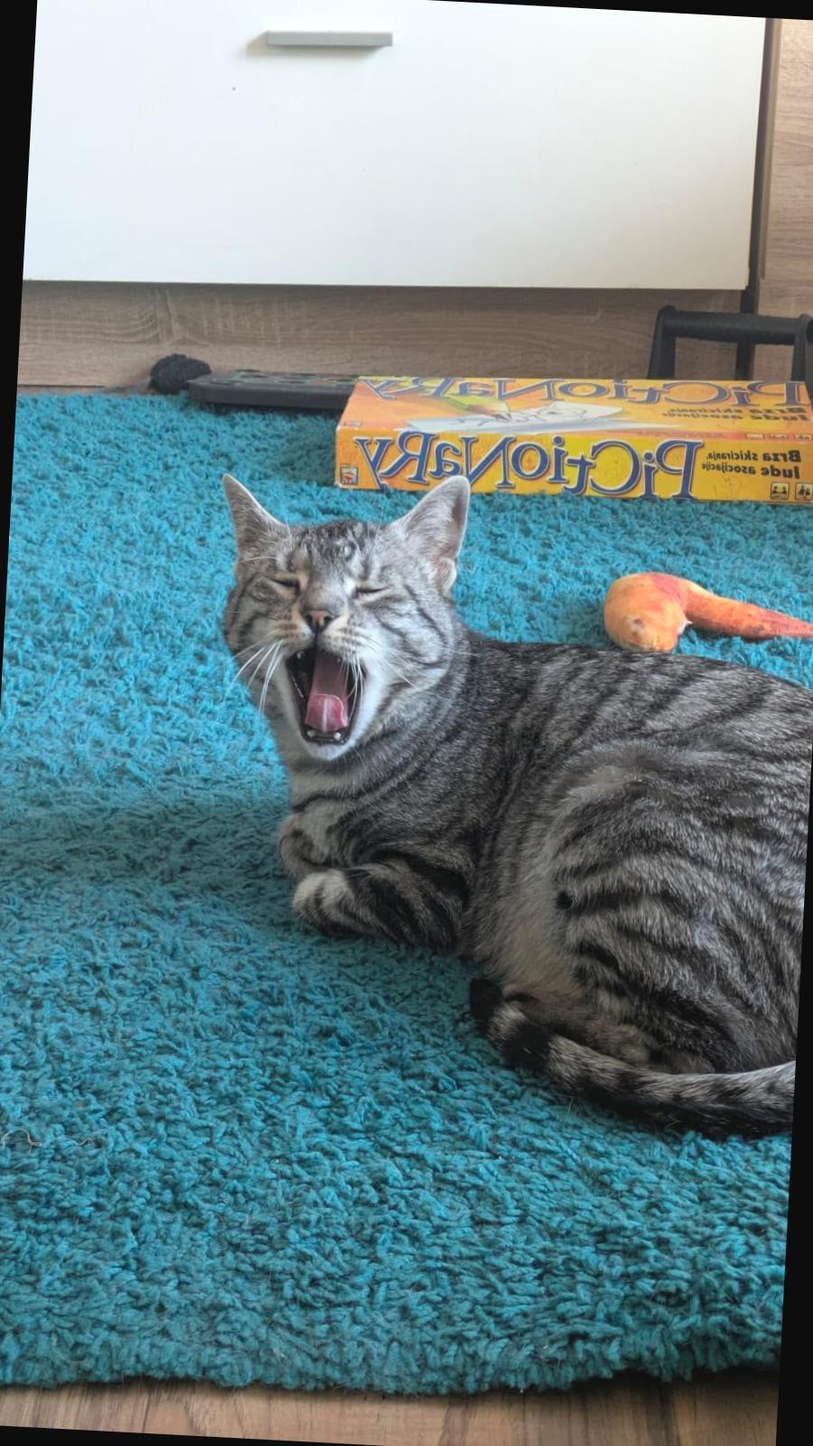macka: (188, 455, 813, 1130)
